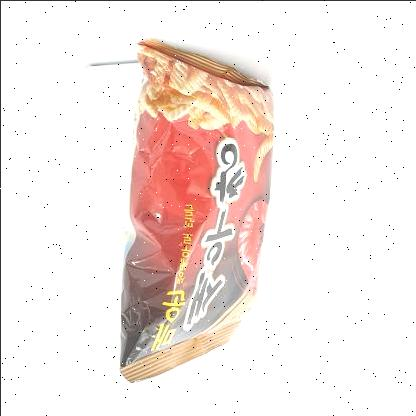Others: (98, 33, 286, 391)
